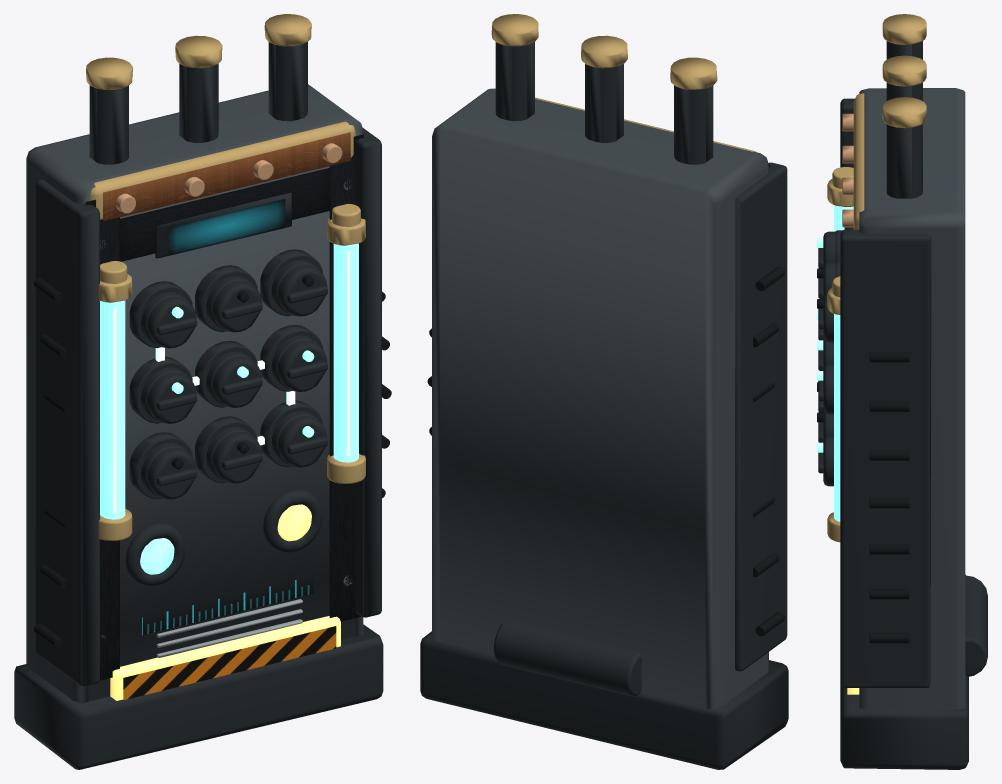
Rendered from hp_puzzle_console_circuit_grid.glb.
3 views of the same model, side by side, from view 1: azimuth 30°, elevation 25°; view 2: azimuth 150°, elevation 25°; view 3: azimuth 270°, elevation 25° (orthographic). The views are drawn at different scales.
Visible parts, largest first — view 1: circuit_cabinet_body, circuit_side_rail_l, circuit_base_plinth, circuit_side_rail_r, circuit_power_bus_face, circuit_col_r_surface, circuit_upper_surface, circuit_tube_l_tube, circuit_tube_r_tube, circuit_warning_face, circuit_power_bus, circuit_col_l_surface (+40 smaller); view 2: circuit_cabinet_body, circuit_side_rail_l, circuit_base_plinth, circuit_conduit_rear, circuit_conduit_-26, circuit_conduit_26, circuit_conduit_0, circuit_conduit_cap_-26, circuit_conduit_cap_26, circuit_conduit_cap_0; view 3: circuit_side_rail_r, circuit_cabinet_body, circuit_base_plinth, circuit_conduit_26, circuit_conduit_rear, circuit_power_bus, circuit_tube_r_tube, circuit_conduit_cap_0, circuit_conduit_cap_-26, circuit_conduit_cap_26, circuit_side_rail_l, circuit_dial_1_2_cap (+16 smaller).
Boxes of the visible parts, box(x1,y1,x2,y2) form: circuit_cabinet_body: box(26, 84, 363, 703); circuit_side_rail_l: box(35, 179, 99, 686); circuit_base_plinth: box(14, 624, 383, 769); circuit_side_rail_r: box(355, 128, 381, 617); circuit_power_bus_face: box(103, 132, 350, 221); circuit_col_r_surface: box(329, 134, 363, 621); circuit_upper_surface: box(118, 167, 331, 261); circuit_tube_l_tube: box(100, 300, 125, 519); circuit_tube_r_tube: box(333, 243, 358, 462); circuit_warning_face: box(123, 626, 336, 700); circuit_power_bus: box(90, 121, 355, 219); circuit_col_l_surface: box(85, 199, 119, 680); circuit_cabinet_body: box(432, 88, 768, 709); circuit_side_rail_l: box(735, 162, 787, 671); circuit_base_plinth: box(420, 631, 788, 769); circuit_conduit_rear: box(493, 620, 641, 696); circuit_conduit_-26: box(674, 85, 713, 164); circuit_conduit_26: box(495, 42, 534, 121); circuit_conduit_0: box(585, 64, 623, 142); circuit_conduit_cap_-26: box(670, 57, 717, 89); circuit_conduit_cap_26: box(491, 14, 538, 46); circuit_conduit_cap_0: box(581, 35, 627, 68); circuit_side_rail_r: box(840, 229, 931, 687); circuit_cabinet_body: box(859, 88, 965, 709); circuit_base_plinth: box(840, 574, 968, 769); circuit_conduit_26: box(886, 124, 922, 198); circuit_conduit_rear: box(965, 575, 987, 676); circuit_power_bus: box(853, 93, 864, 229); circuit_tube_r_tube: box(834, 314, 840, 521); circuit_conduit_cap_0: box(882, 55, 926, 86); circuit_conduit_cap_-26: box(882, 14, 926, 44); circuit_conduit_cap_26: box(882, 97, 926, 128); circuit_side_rail_l: box(840, 98, 854, 167); circuit_dial_1_2_cap: box(823, 364, 833, 414).
Bounding box in the file's own units: 0.9816 × 1.87 × 0.452.
Materials: 16 (4 with a texture image).
